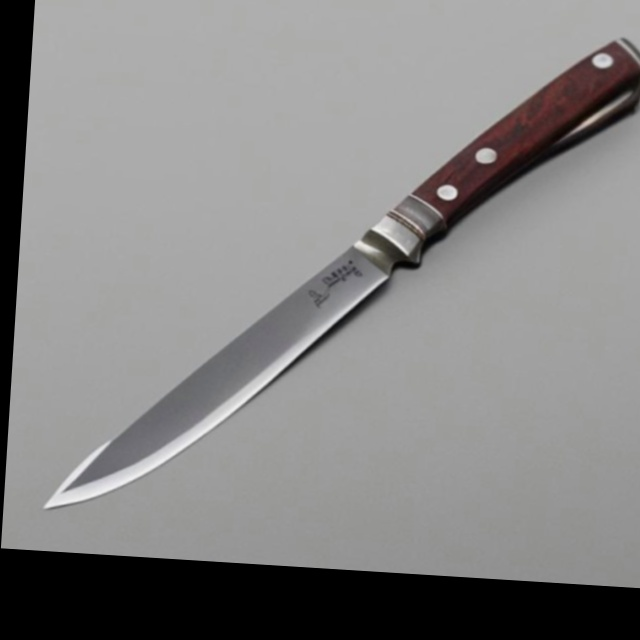Sharp-Object: (38, 0, 640, 553)
